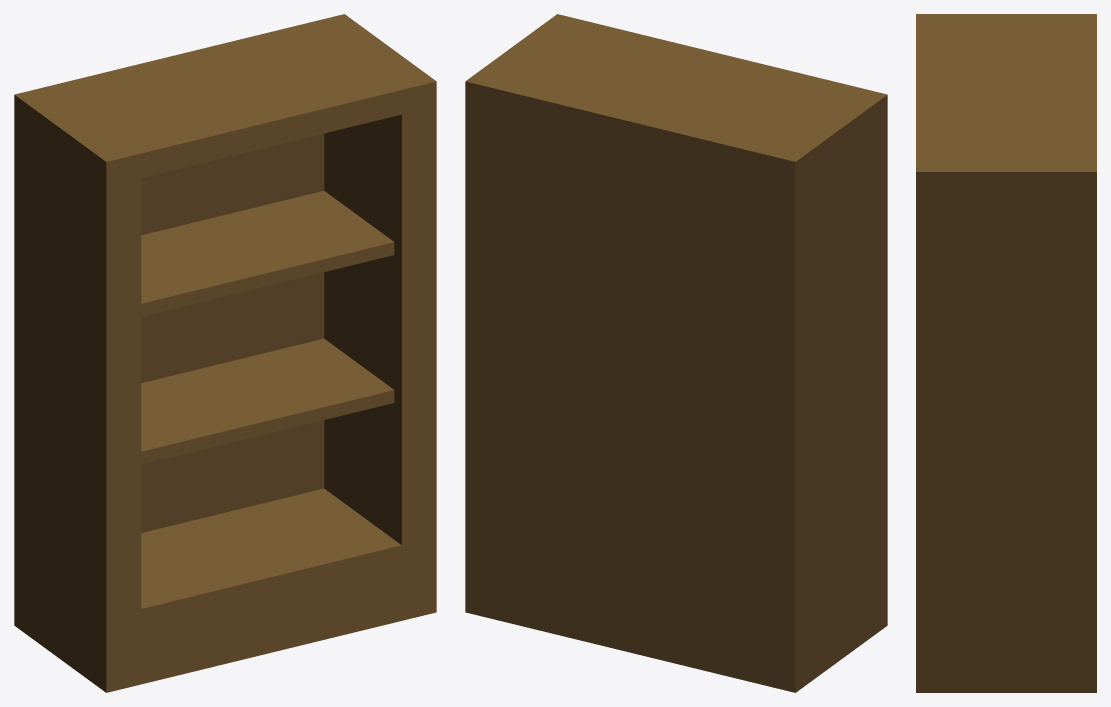
Rendered from mueble.obj.
3 renders of one model, left to right at view 1: azimuth 30°, elevation 25°; view 2: azimuth 150°, elevation 25°; view 3: azimuth 270°, elevation 25°, orthographic.
Parts seen in each view (by area): view 1: Prop_Shelf_011_Malla.156; view 2: Prop_Shelf_011_Malla.156; view 3: Prop_Shelf_011_Malla.156.
Part boxes in pixels (<box>): Prop_Shelf_011_Malla.156: <box>14,14,436,692</box>; Prop_Shelf_011_Malla.156: <box>465,14,887,692</box>; Prop_Shelf_011_Malla.156: <box>916,14,1096,692</box>.
Size of the model in its own units: 58.09 by 89.25 by 28.06.
